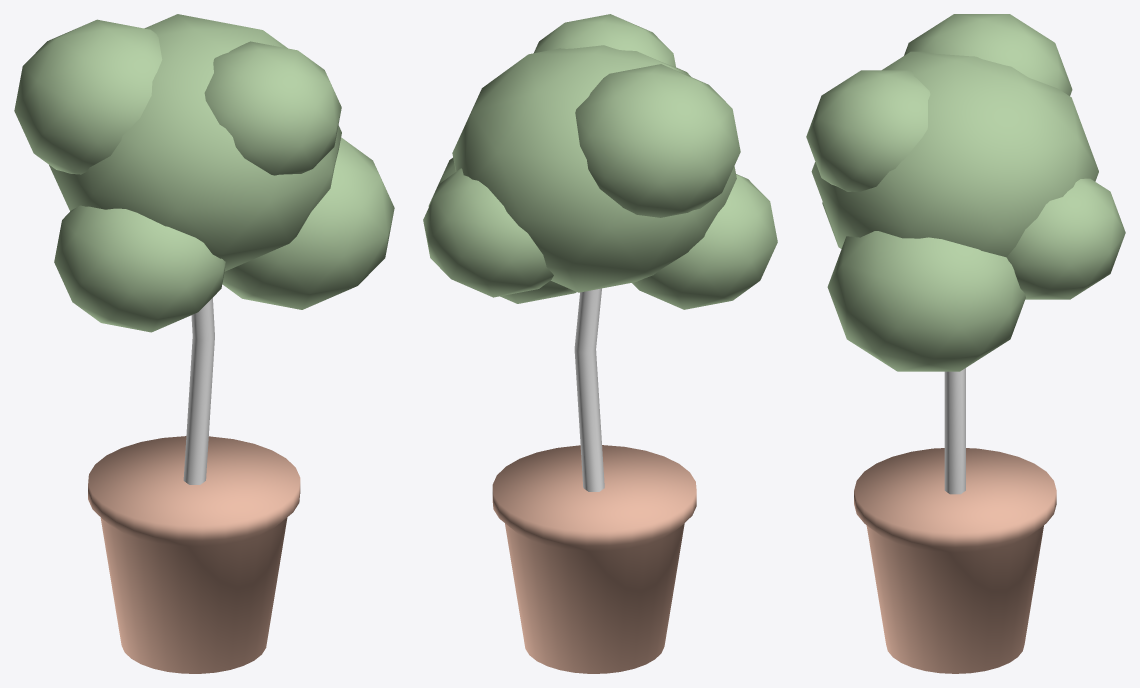
The model's file is potted_plant_01.glb.
3 renders of one model, left to right at view 1: azimuth 30°, elevation 25°; view 2: azimuth 150°, elevation 25°; view 3: azimuth 270°, elevation 25°, orthographic. The views are drawn at different scales.
Parts seen in each view (by area): view 1: potted_plant_01_leaves, potted_plant_01_pot, potted_plant_01_stem; view 2: potted_plant_01_leaves, potted_plant_01_pot, potted_plant_01_stem; view 3: potted_plant_01_leaves, potted_plant_01_pot, potted_plant_01_stem.
Boxes of the visible parts, x1,y1,x2,y2 form: potted_plant_01_leaves: [14, 14, 394, 332]; potted_plant_01_pot: [88, 436, 300, 673]; potted_plant_01_stem: [183, 298, 214, 484]; potted_plant_01_leaves: [423, 14, 777, 309]; potted_plant_01_pot: [492, 445, 696, 673]; potted_plant_01_stem: [574, 288, 604, 491]; potted_plant_01_leaves: [806, 14, 1125, 371]; potted_plant_01_pot: [854, 448, 1056, 673]; potted_plant_01_stem: [944, 368, 965, 494].
Bounding box in the file's own units: 0.6629 × 1.22 × 0.6.
